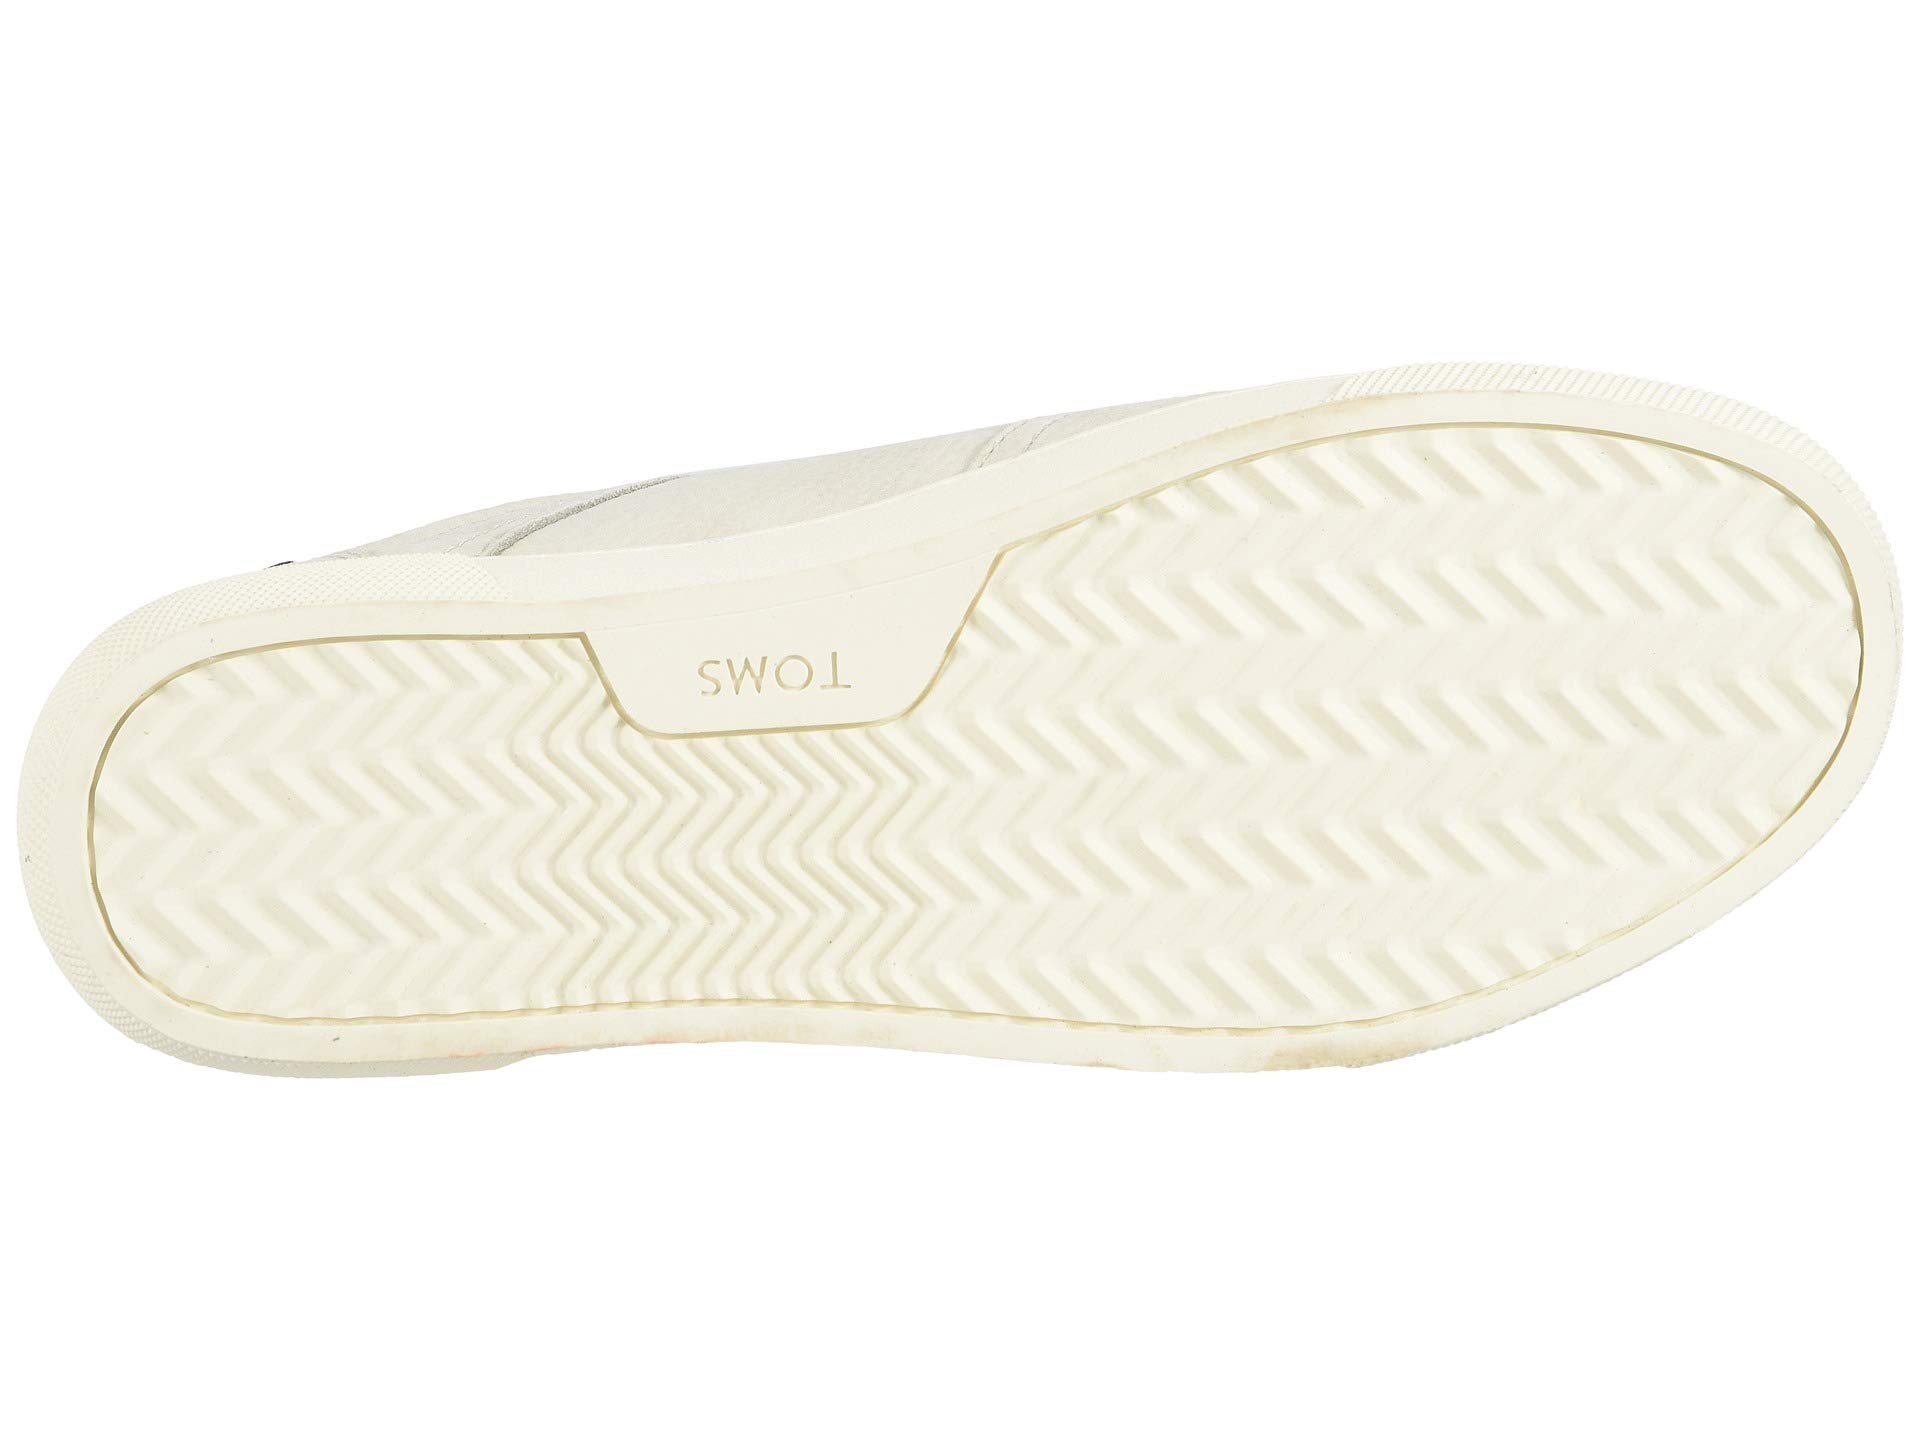chevron: (1164, 576, 1516, 936), (488, 725, 833, 986)
circle: (692, 610, 887, 717)
text: (692, 610, 887, 717)
